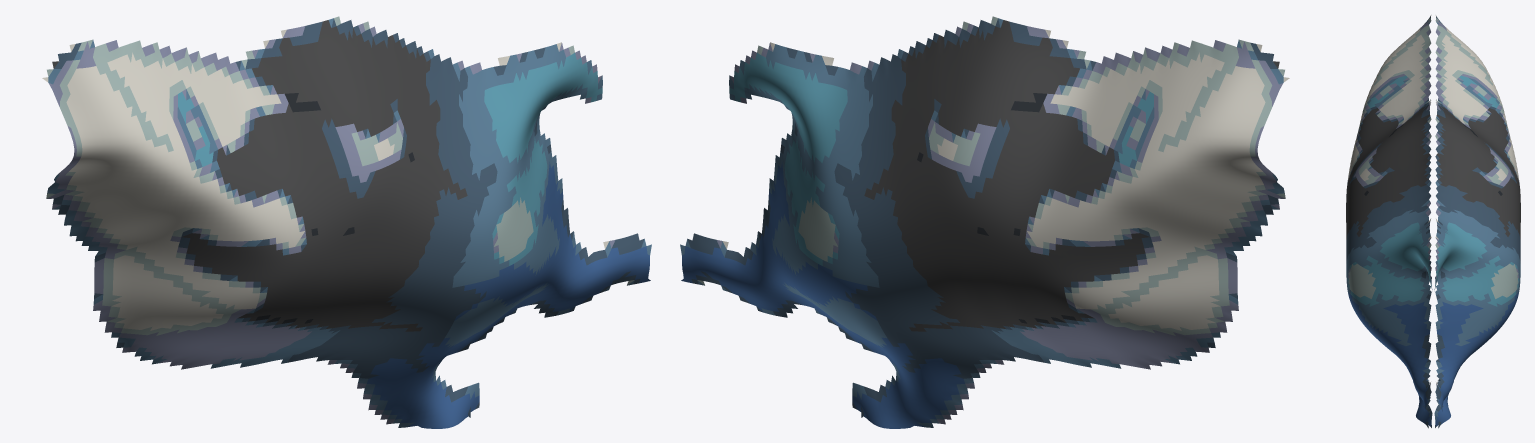
File: roundtailor.glb
The picture shows the model from 3 angles, left to right: view 1: azimuth 30°, elevation 25°; view 2: azimuth 150°, elevation 25°; view 3: azimuth 270°, elevation 25°; orthographic projection. The views are drawn at different scales.
Parts seen in each view (by area): view 1: roundtailor; view 2: roundtailor; view 3: roundtailor.
Part boxes in pixels (left/top/right/bottom): roundtailor: left=42, top=16, right=651, bottom=428; roundtailor: left=680, top=16, right=1289, bottom=428; roundtailor: left=1346, top=15, right=1520, bottom=428.
Size of the model in its own units: 458 by 337 by 182.
